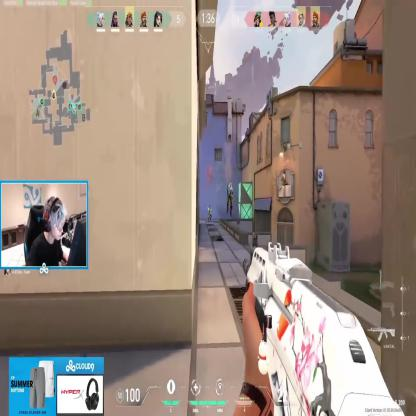enemy: (226, 182, 234, 216), (207, 205, 212, 221)
enemy_head: (230, 182, 232, 188), (209, 205, 210, 209)
